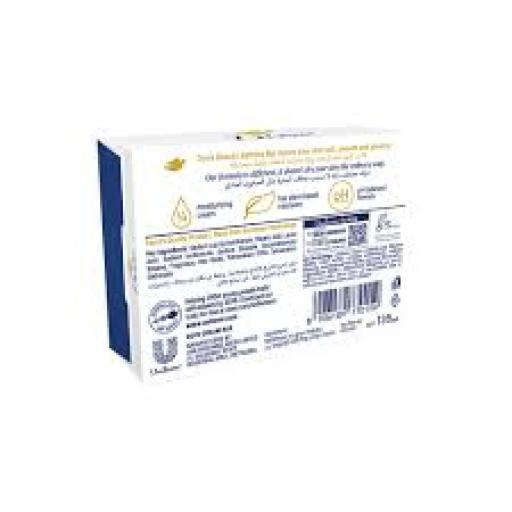Dove`1: (92, 116, 416, 387)
